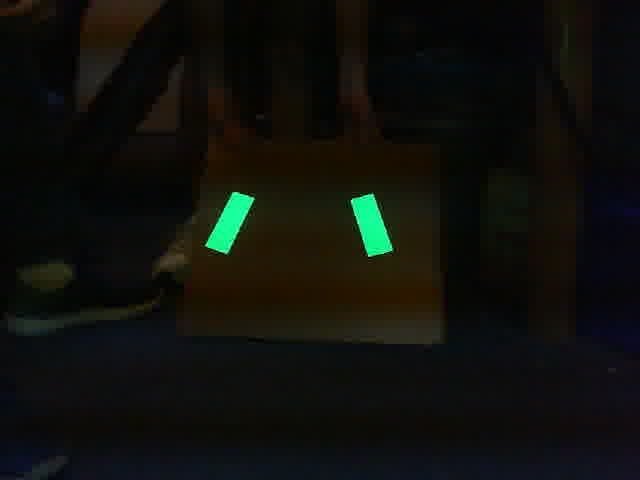target: (204, 190, 395, 262)
